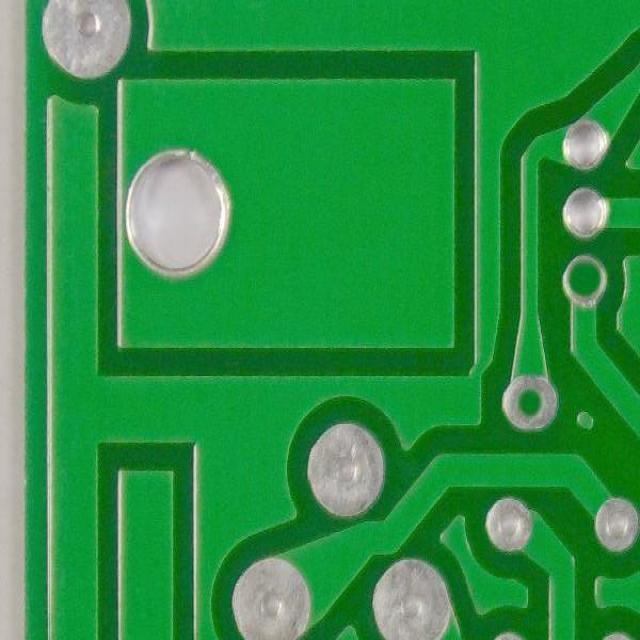missing hole: (499, 372, 564, 437), (559, 252, 615, 309)
